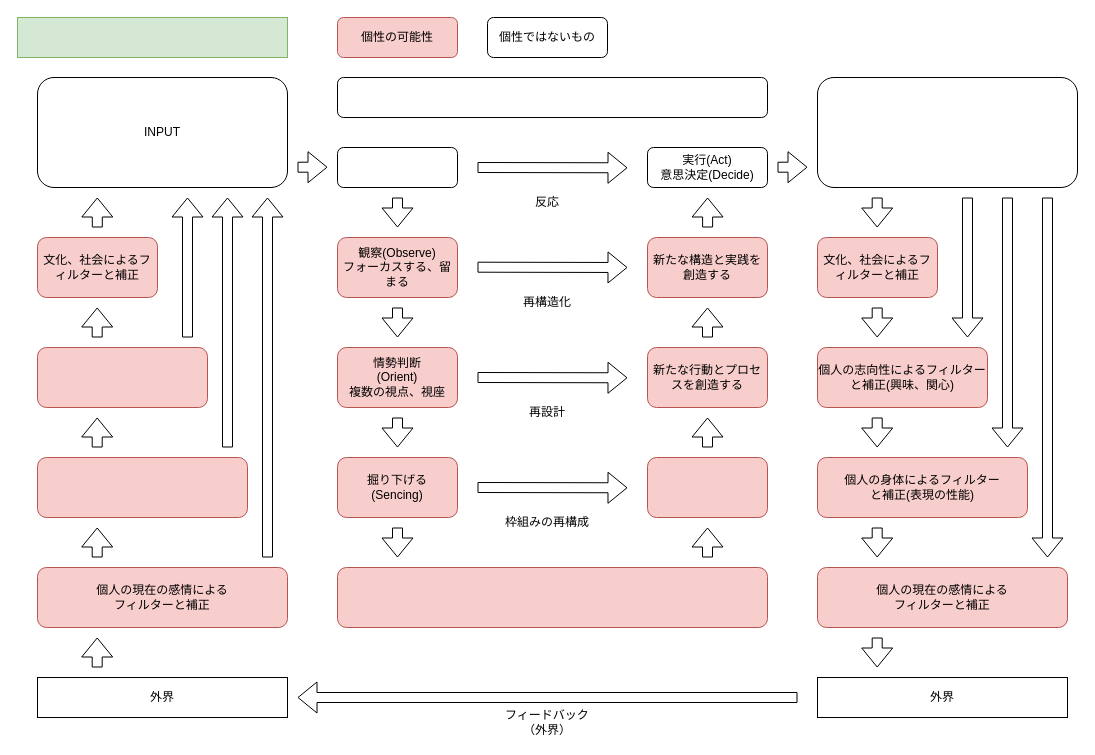
Some shapes in this 1095 by 755 pixel diagram are drawn without their labels. Here are the shapes that lost their labels. From the top down, the centre of each, then its label:
At point (152, 37): "個性とは？".
At point (552, 97): "PROCESS".
At point (947, 132): "OUTPUT".
At point (397, 167): "事象 (Event)".
At point (122, 377): "個人の志向性によるフィルター と補正 (興味、関心)".
At point (142, 487): "個人の身体によるフィルターと補正 (五感の性能)".
At point (707, 487): "新たな思考と原則を創造する".
At point (552, 597): "再生成 (Regenerate) ソースに触れる、手放し、迎えいれる".
